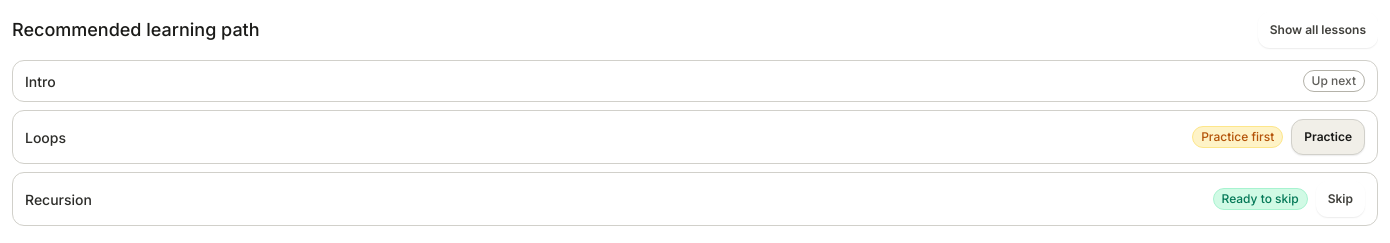
LearningPath › uses the backend-provided updated_sequence after skip when present
Click the button with test id "skip-l3" at (1340, 199), box [1316,181,1365,217]
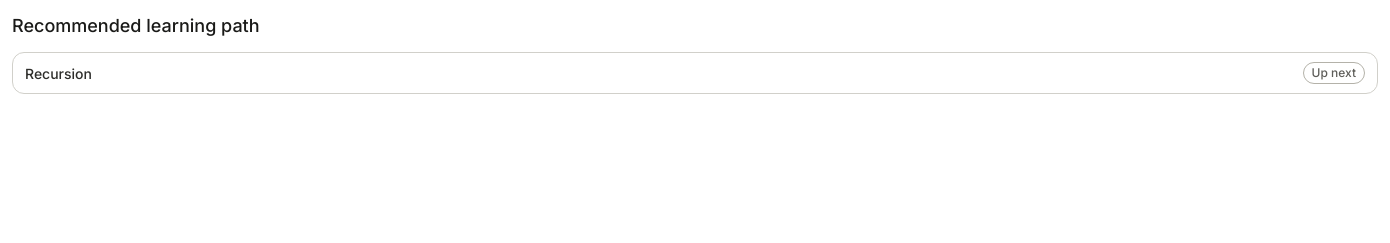
Result: the text "Up next" is shown at [1312,65,1356,81]
Result: the text "Ready to skip" is gone
